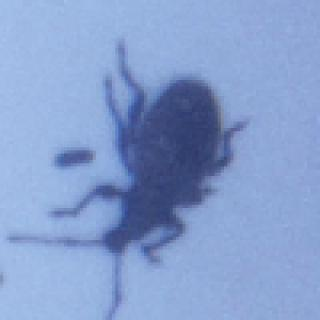bvw: (6, 33, 250, 320)
